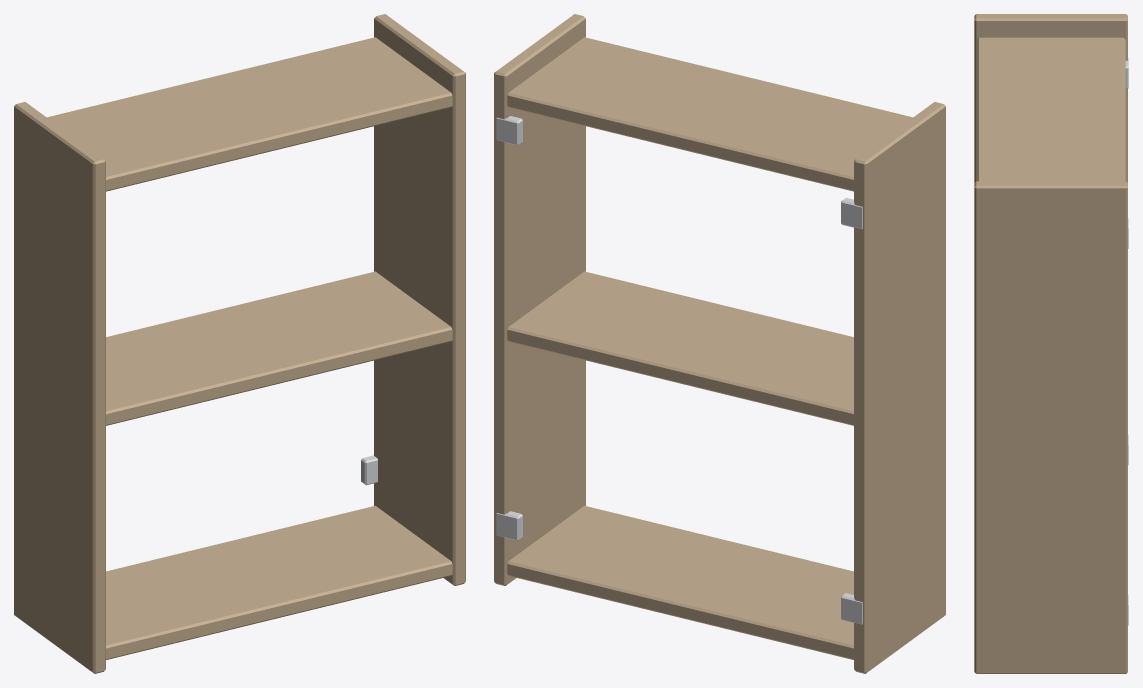
The model's file is fitted-kitchen-and-bathroom-builder-open-shelving-stac-e45abf4d__17859.glb.
The picture shows the model from 3 angles, left to right: view 1: azimuth 30°, elevation 25°; view 2: azimuth 150°, elevation 25°; view 3: azimuth 270°, elevation 25°; orthographic projection. The views are drawn at different scales.
Parts seen in each view (by area): view 1: open-shelving-stack; view 2: open-shelving-stack; view 3: open-shelving-stack.
Part boxes in pixels (x1,y1,x2,y2): open-shelving-stack: (14, 14, 465, 673); open-shelving-stack: (494, 14, 945, 673); open-shelving-stack: (974, 14, 1128, 673).
Bounding box in the file's own units: 0.8001 × 1.05 × 0.3012.
